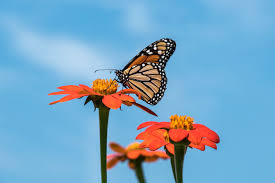butterfly: (116, 37, 183, 102)
flower: (141, 115, 221, 152), (108, 136, 169, 173), (58, 79, 122, 109)
